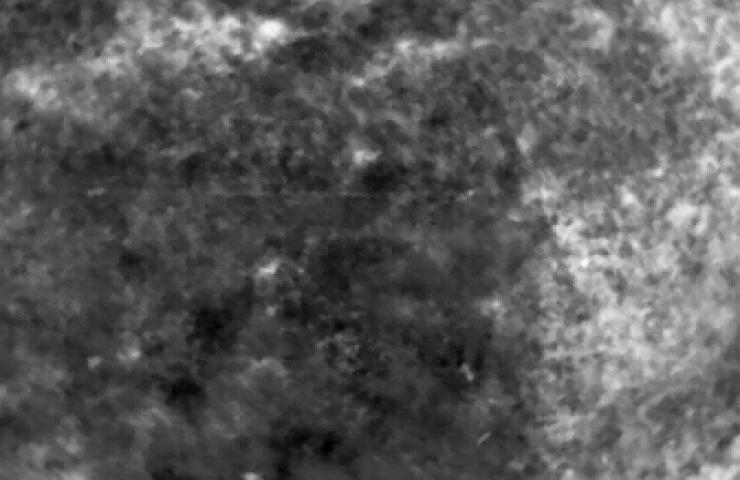landmines: (255, 259, 286, 282)
